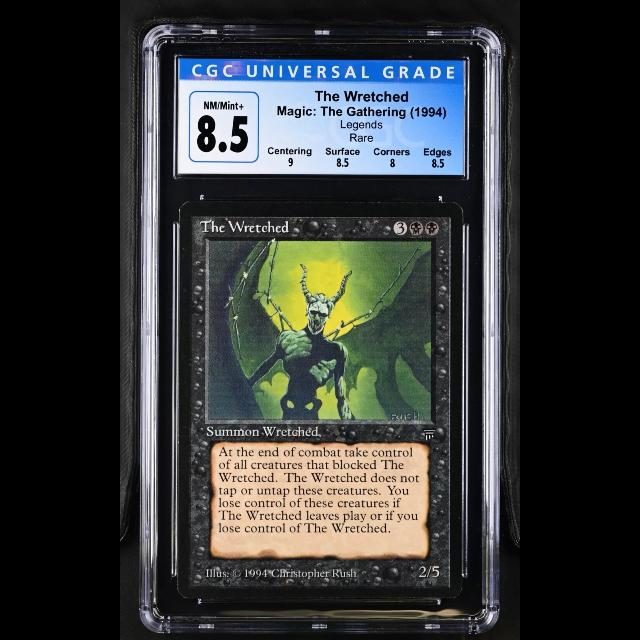card: (179, 199, 464, 599)
cgc_label_old: (177, 57, 465, 176)
cgc_slab: (137, 23, 502, 634)
